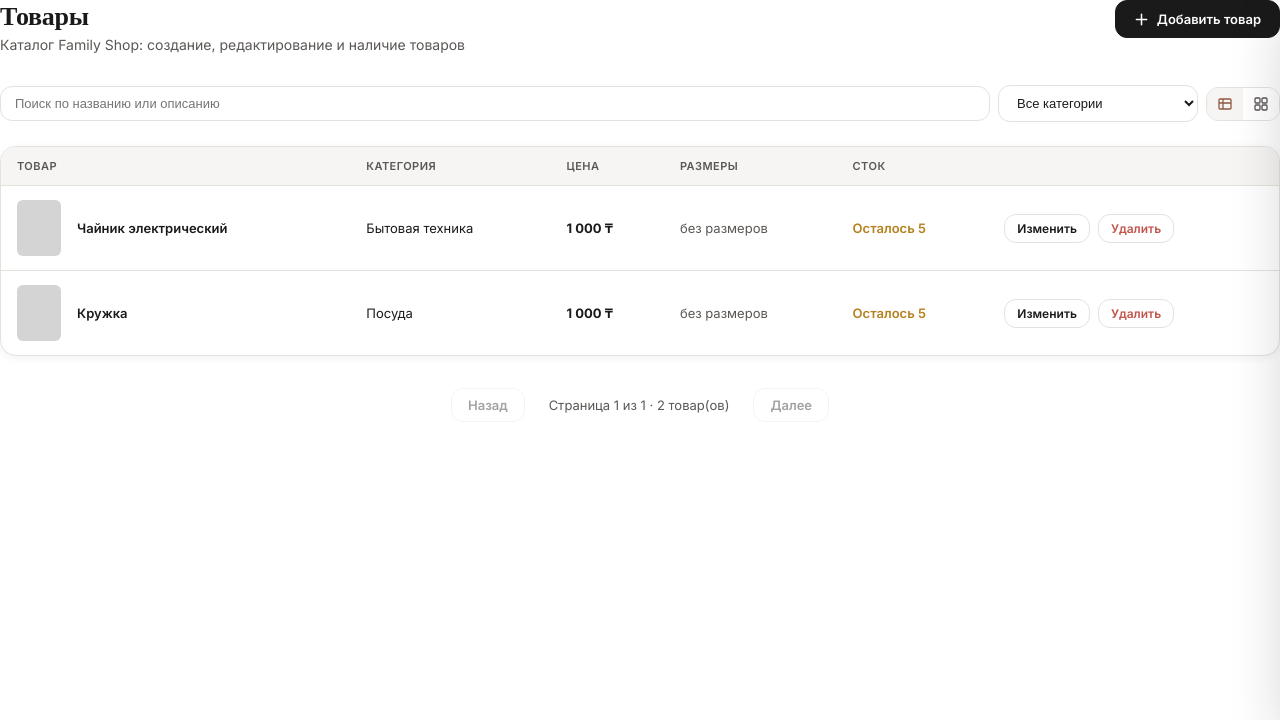
it: product form - gender field › is hidden for "Дом и быт", which offers only its own types and no sizes
Click the button "Изменить" in the row of "Чайник электрический".
click(1047, 228)  # box [1004,214,1090,242]
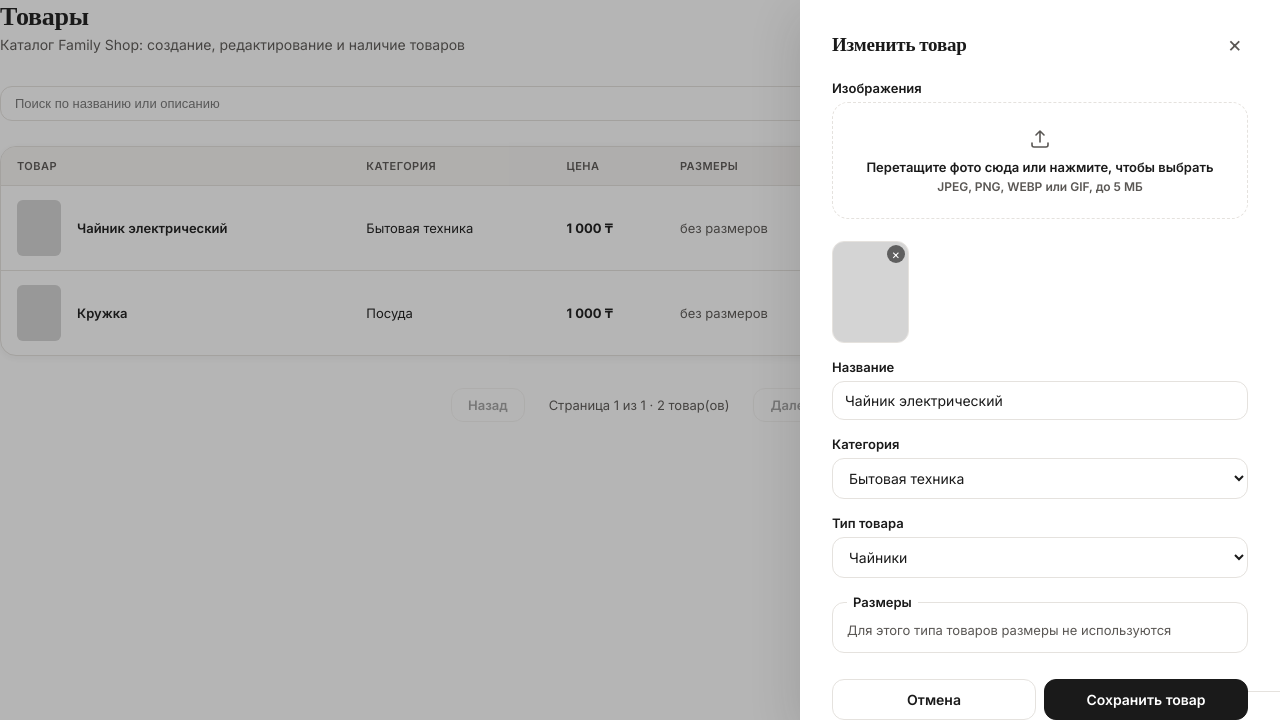
Expected: the dropdown labelled "Категория" is shown
Select "Дом и быт" in the dropdown labelled "Категория" at (1040, 479), box [832,458,1248,499]
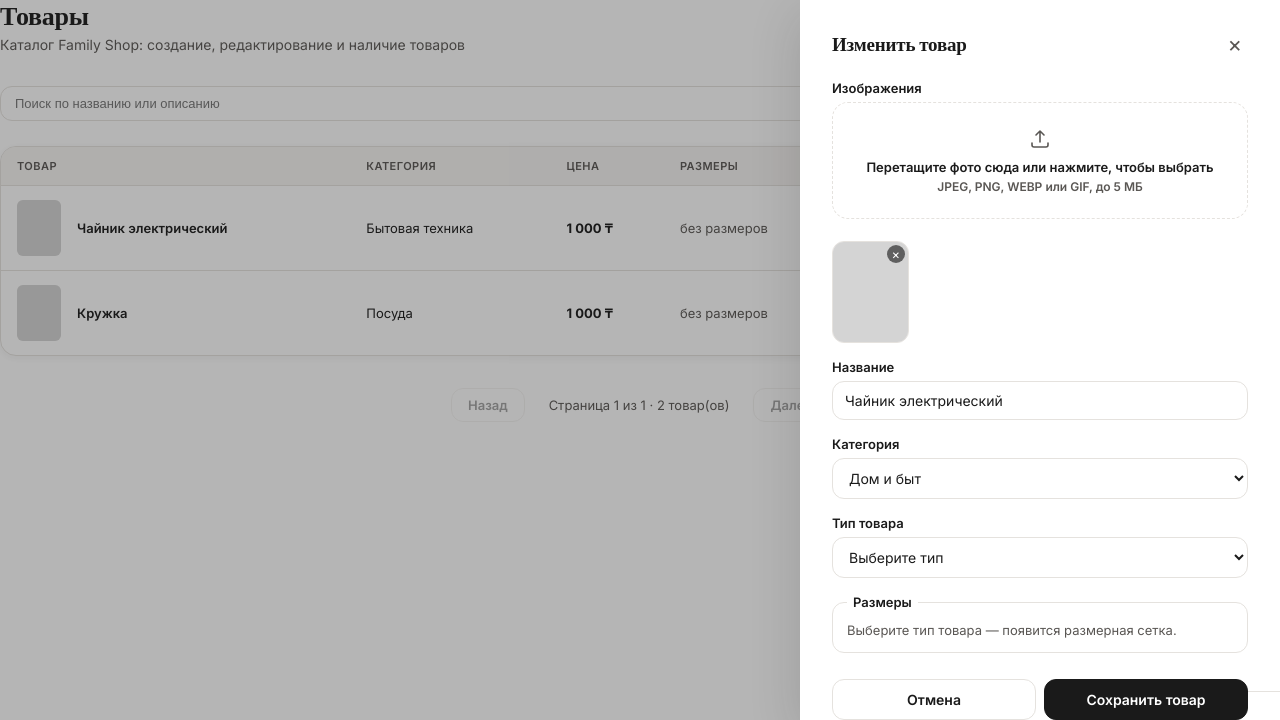
Expected: the text labelled "пол" is gone
Select "Этажерки" in the dropdown labelled "Тип товара" at (1040, 558), box [832,537,1248,578]
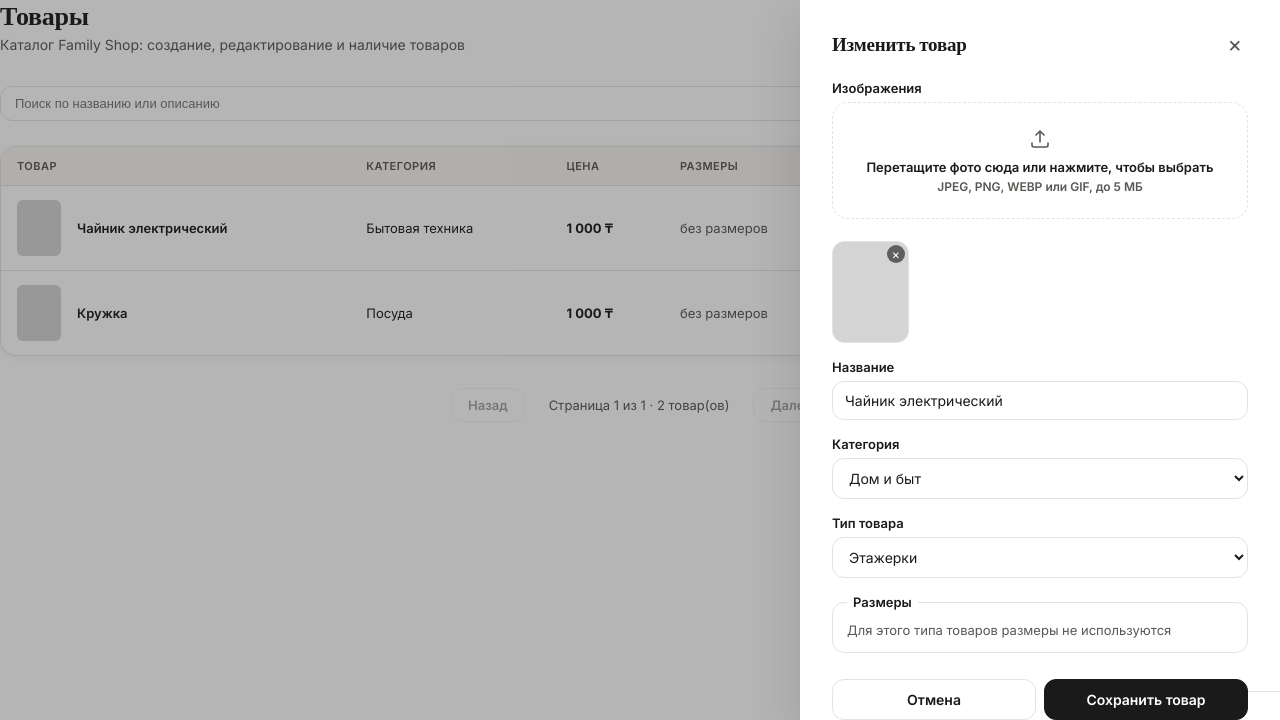
Expected: the text "Для этого типа товаров размеры не используются" is shown, [847,622,1171,638]
